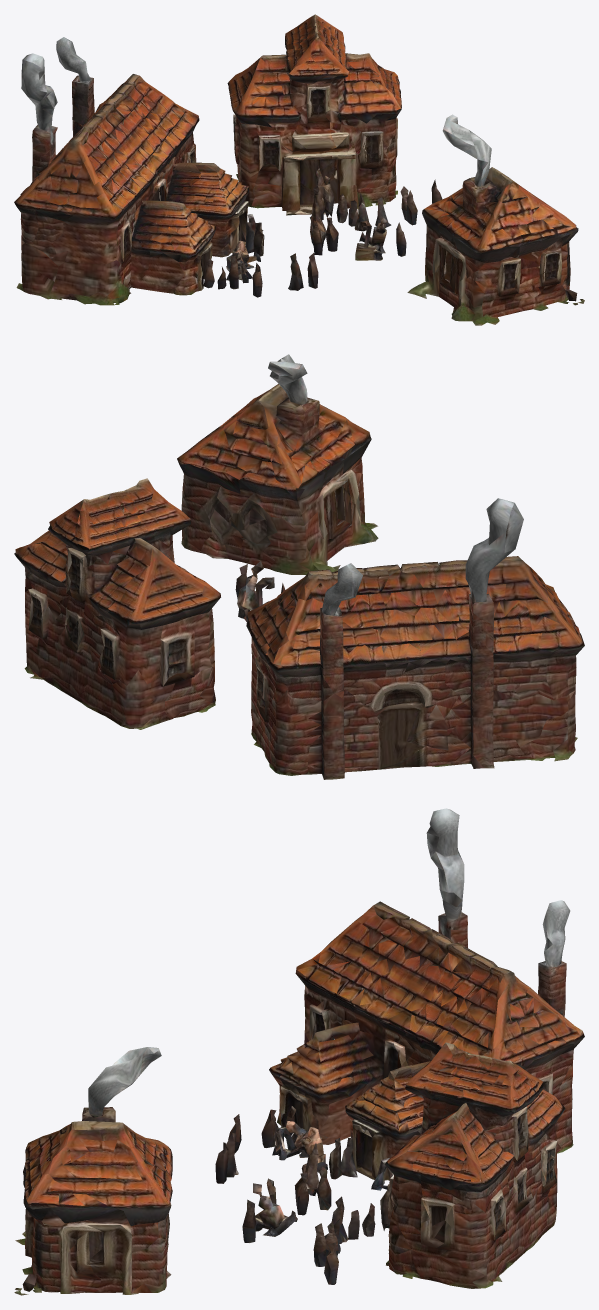
The model's file is bottega.glb.
The picture shows the model from 3 angles, top to bottom: view 1: azimuth 30°, elevation 25°; view 2: azimuth 150°, elevation 25°; view 3: azimuth 270°, elevation 25°; orthographic projection. The views are drawn at different scales.
Bounding box in the file's own units: 2.62 × 1.27 × 2.52.
1 material, 1 textured.
